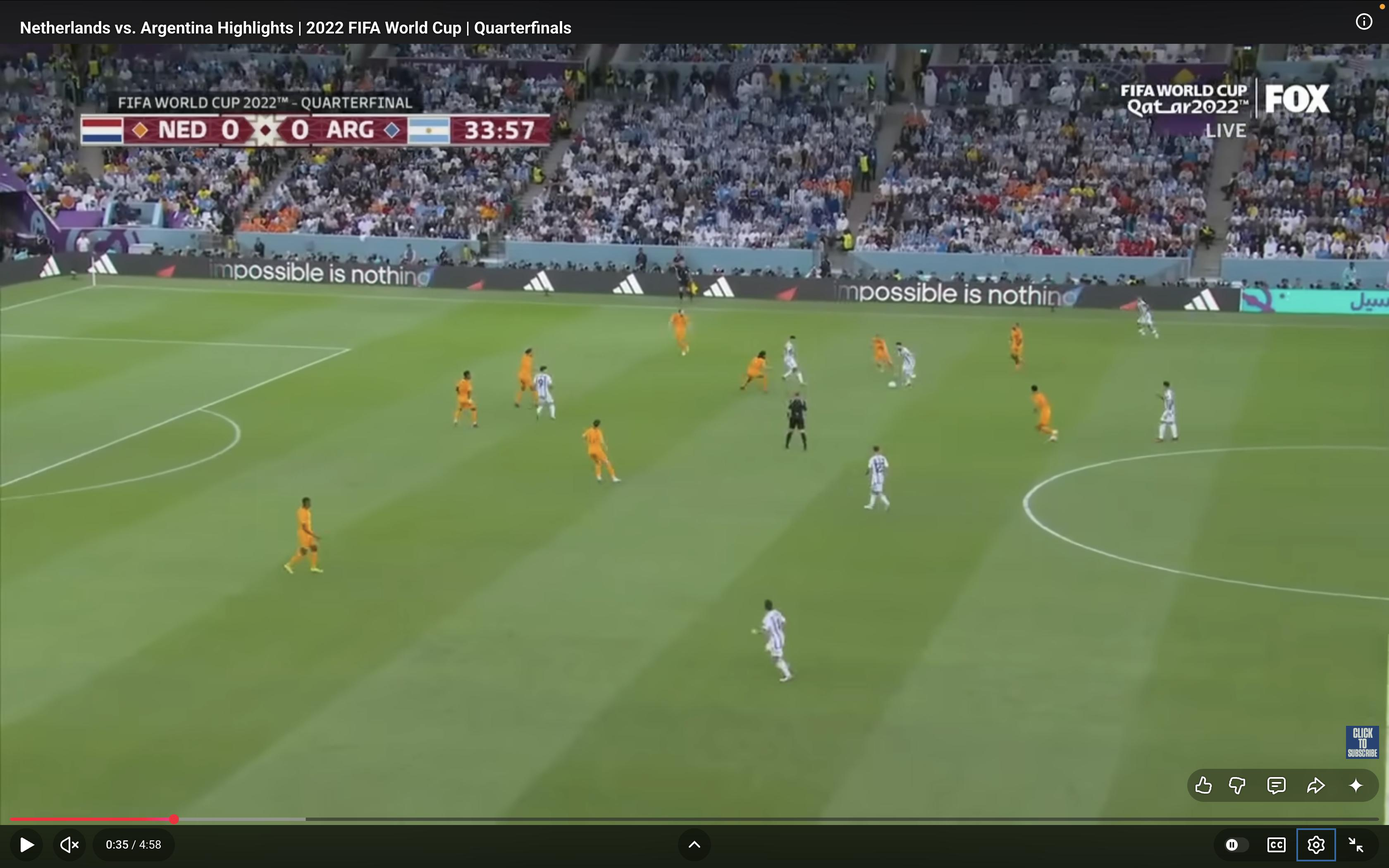ball: (888, 381, 897, 388)
player: (752, 601, 793, 682), (284, 497, 323, 574), (582, 419, 620, 482), (864, 446, 890, 510), (1031, 385, 1058, 441), (453, 370, 477, 427), (1156, 382, 1178, 442), (533, 365, 555, 420), (515, 348, 535, 408), (740, 351, 768, 392), (782, 335, 804, 385), (895, 341, 916, 387), (1136, 297, 1159, 338), (670, 308, 688, 354), (872, 335, 893, 374), (1010, 324, 1023, 370)
referee: (785, 392, 807, 450)
